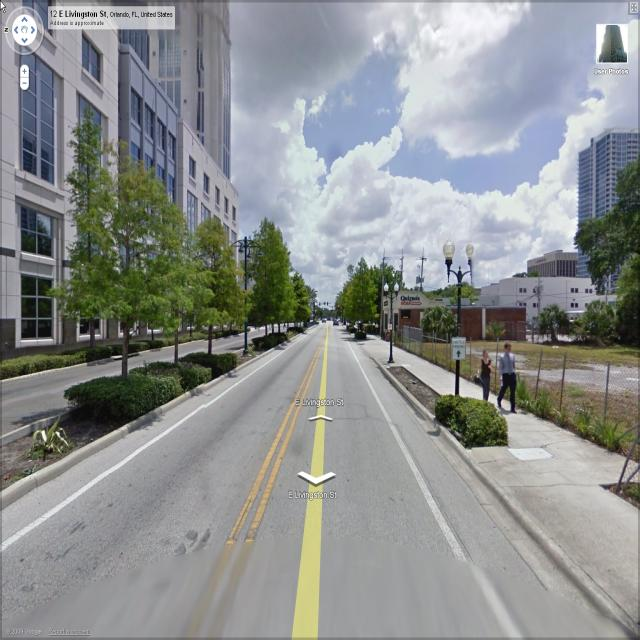b_2: (0, 4, 256, 348), (574, 132, 640, 345), (374, 280, 552, 352), (512, 250, 584, 296)
